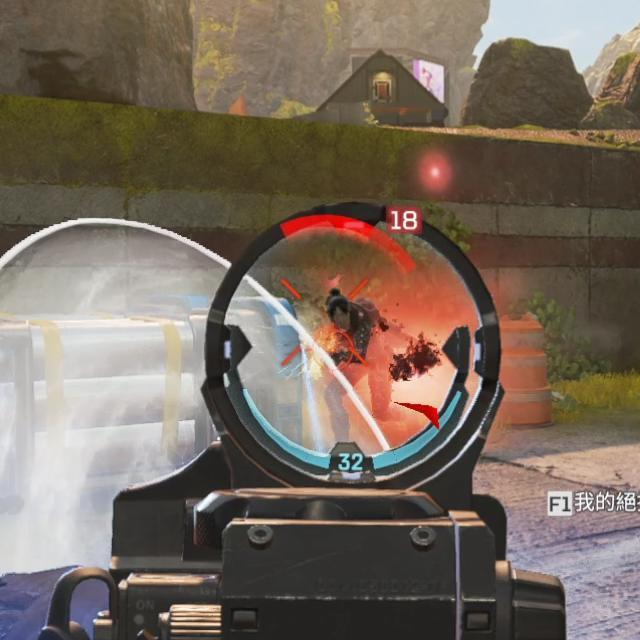avatar: (320, 285, 394, 441)
